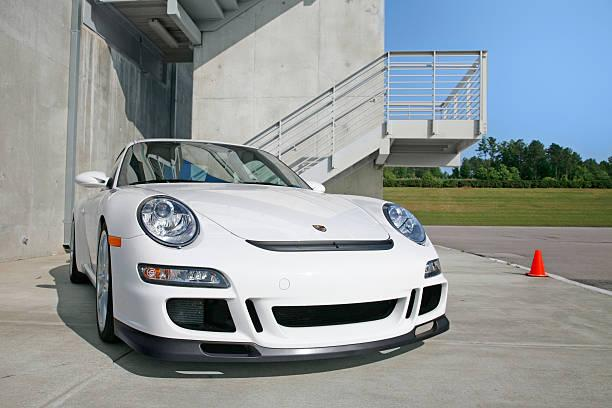porsche: (306, 217, 332, 237)
